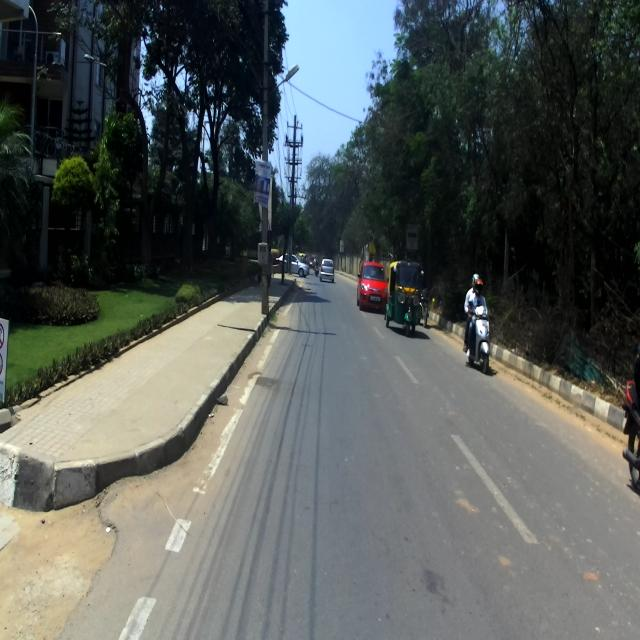electric pole ahead at: (253, 0, 279, 324), (285, 108, 304, 284)
